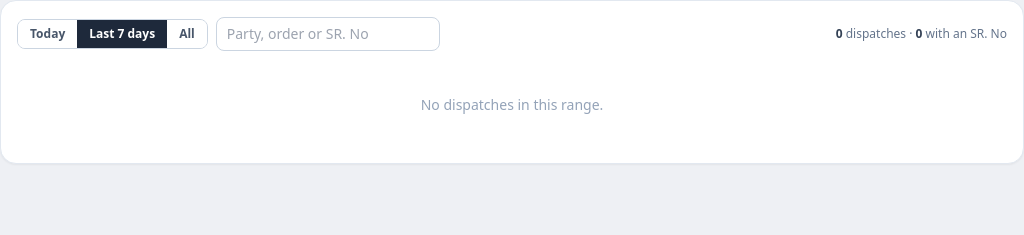
Scenario: finds a slip by its SR. No
The image size is (1024, 235).
Click the button "All" at (187, 34), box [167,20,207,48]
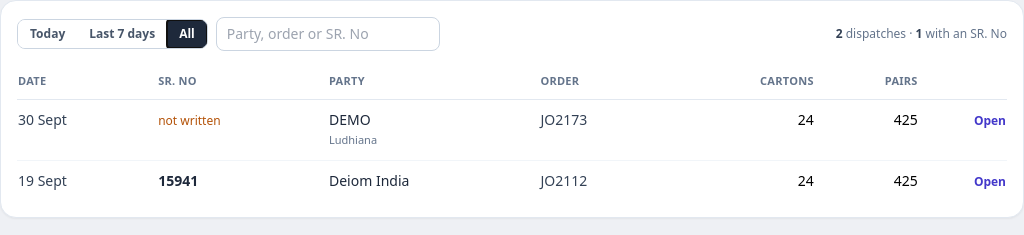
Type "15941" into the field named "Search gate passes" at (328, 34), box [216,17,440,51]
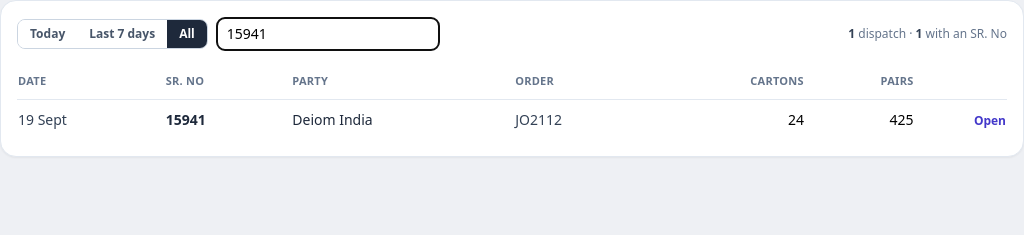
Check: the text "JO2112" is shown, box [514,100,657,140]
Check: the text "JO2173" is gone
